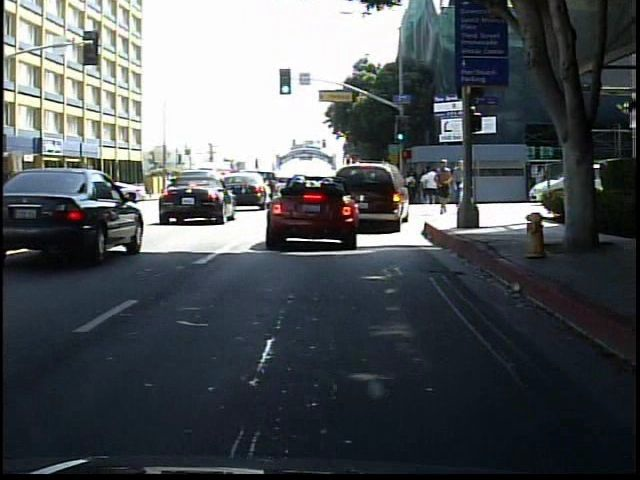person: (432, 158, 453, 217), (455, 173, 477, 211), (105, 176, 124, 204)
